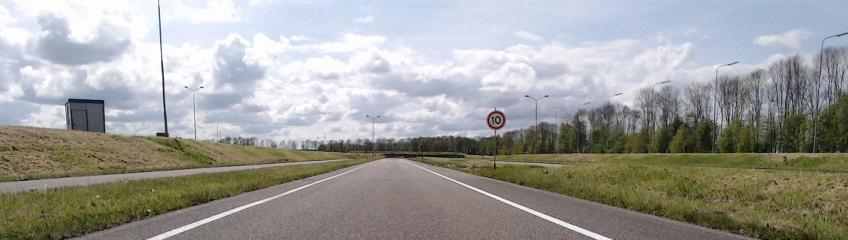Speed-limit-10km-h-: (487, 111, 506, 130)
